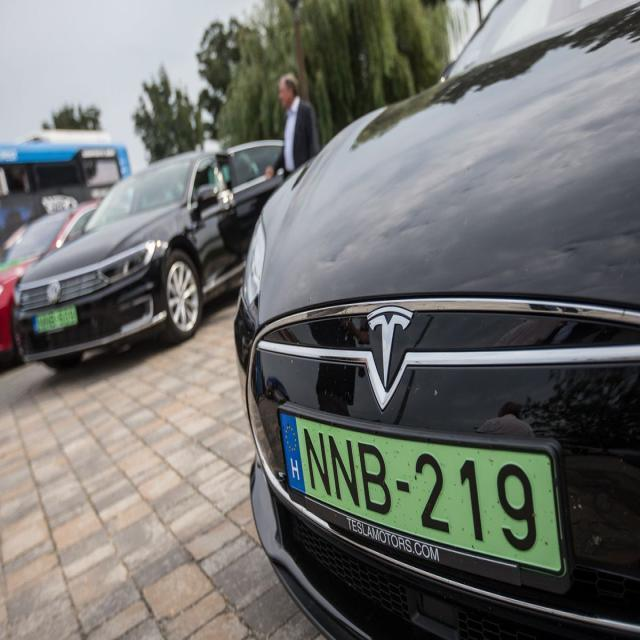licence: (279, 405, 573, 587)
